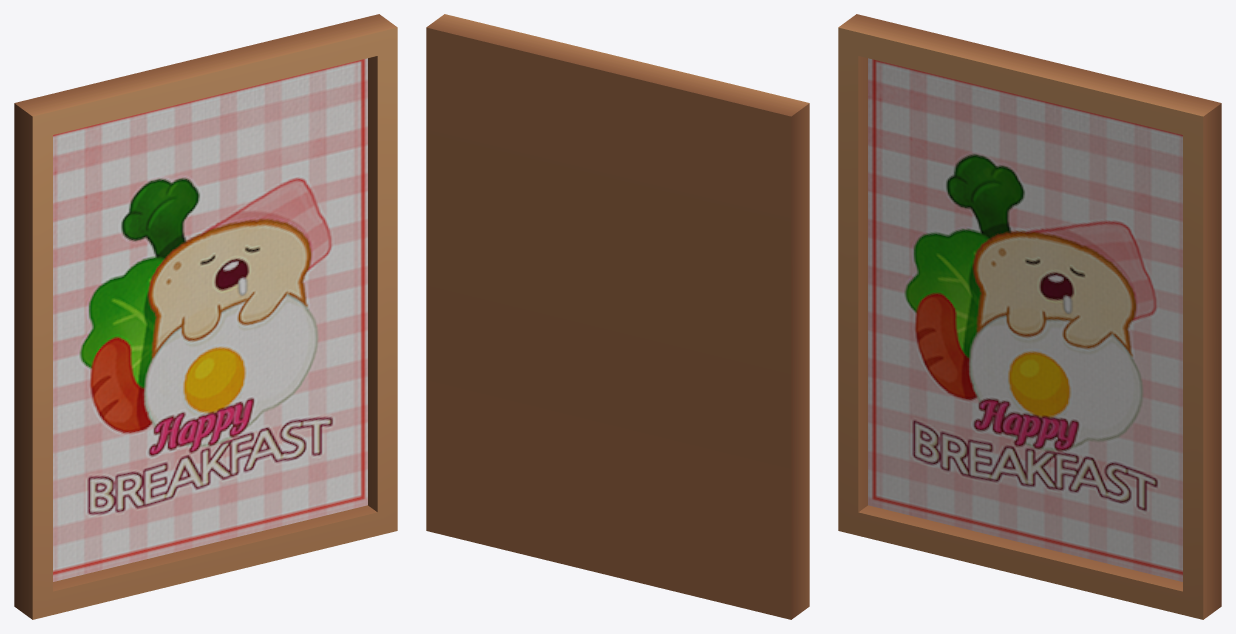
File: CR_caf_Poster_002.FBX
3 renders of one model, left to right at view 1: azimuth 30°, elevation 25°; view 2: azimuth 150°, elevation 25°; view 3: azimuth 330°, elevation 25°, orthographic.
Visible parts, largest first — view 1: CR_caf_Poster_002; view 2: CR_caf_Poster_002; view 3: CR_caf_Poster_002.
Boxes of the visible parts, <box> form: CR_caf_Poster_002: <box>14,14,397,619</box>; CR_caf_Poster_002: <box>426,14,809,619</box>; CR_caf_Poster_002: <box>838,14,1221,619</box>.
Size of the model in its own units: 58.31 by 76.82 by 5.11.
Materials: 1 (1 with a texture image).
